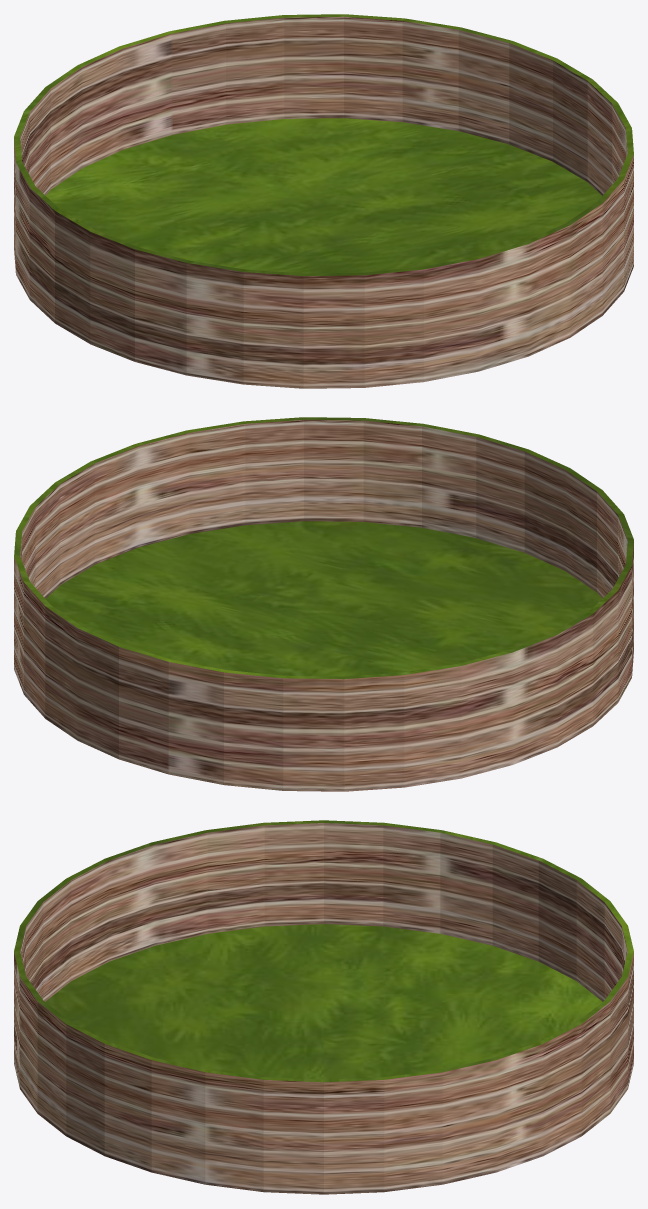
The picture shows the model from 3 angles, top to bottom: view 1: azimuth 30°, elevation 25°; view 2: azimuth 150°, elevation 25°; view 3: azimuth 270°, elevation 25°; orthographic projection.
Parts seen in each view (by area): view 1: Cylinder; view 2: Cylinder; view 3: Cylinder.
Part boxes in pixels (left/top/right/bottom): Cylinder: left=14, top=14, right=633, bottom=388; Cylinder: left=14, top=417, right=633, bottom=791; Cylinder: left=14, top=820, right=633, bottom=1194.
Bounding box in the file's own units: 50 × 10 × 50.
1 material, 1 textured.
